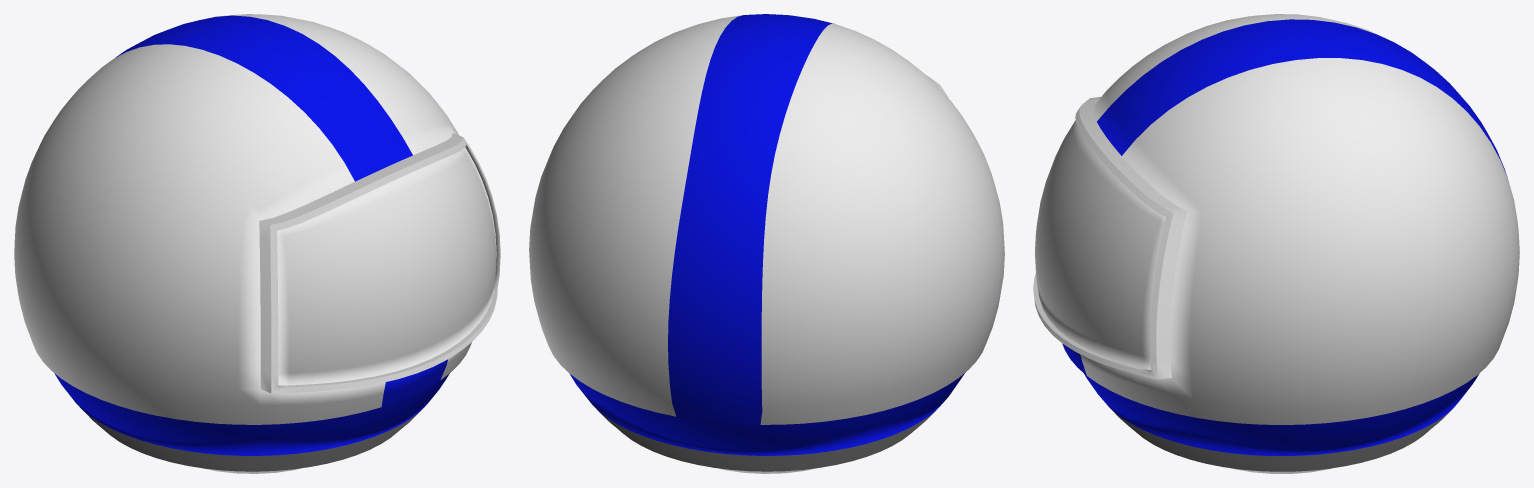
File: quantum_zero_height1.fbx
3 views of the same model, side by side, from view 1: azimuth 30°, elevation 25°; view 2: azimuth 150°, elevation 25°; view 3: azimuth 270°, elevation 25° (orthographic).
Visible parts, largest first — view 1: Top, Screen, Bottom; view 2: Top, Bottom; view 3: Top, Screen, Bottom.
Boxes of the visible parts, left/top/right/bottom form: Top: left=14, top=14, right=500, bottom=424; Screen: left=277, top=147, right=496, bottom=385; Bottom: left=54, top=373, right=449, bottom=473; Top: left=529, top=14, right=1004, bottom=424; Bottom: left=570, top=372, right=965, bottom=473; Top: left=1033, top=14, right=1519, bottom=424; Screen: left=1035, top=120, right=1165, bottom=370; Bottom: left=1084, top=373, right=1479, bottom=473.
Size of the model in its own units: 0.4757 by 0.4591 by 0.4862.
